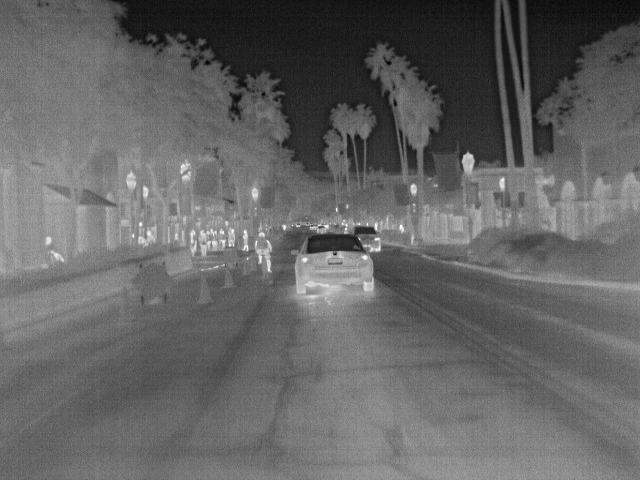car: (290, 234, 380, 298), (348, 225, 384, 254), (316, 225, 330, 236)
person: (252, 232, 275, 274), (186, 227, 198, 259), (197, 229, 210, 258), (239, 228, 252, 252), (145, 230, 157, 244)
